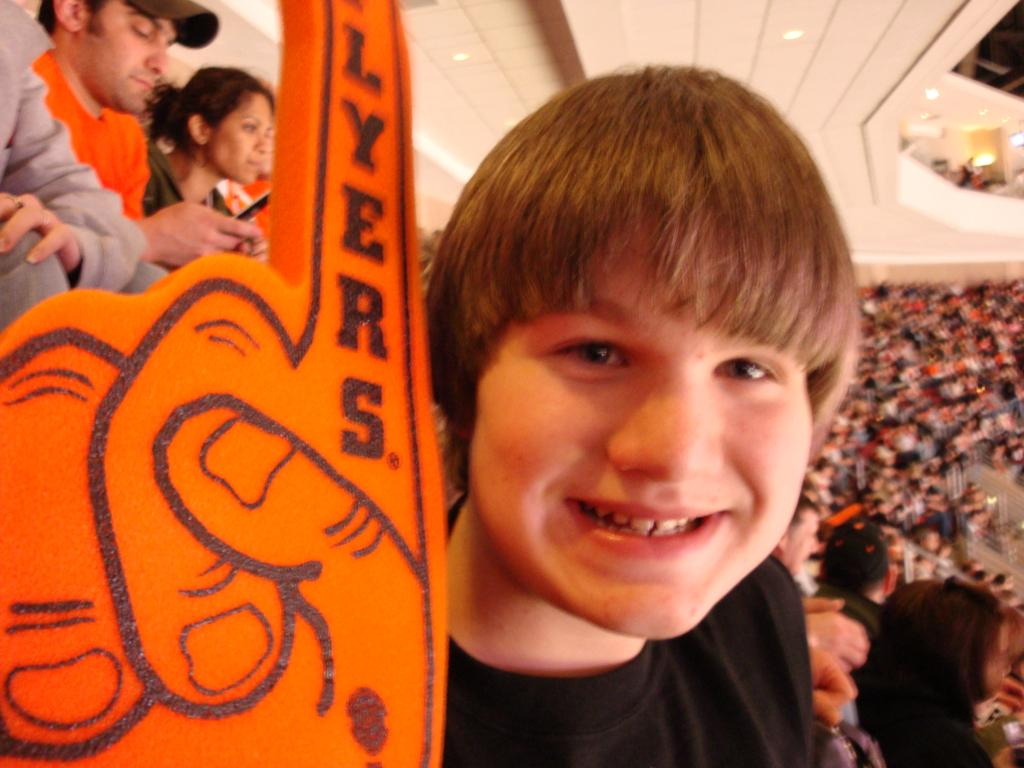face: (474, 238, 806, 636), (94, 18, 170, 110), (216, 92, 278, 176)
